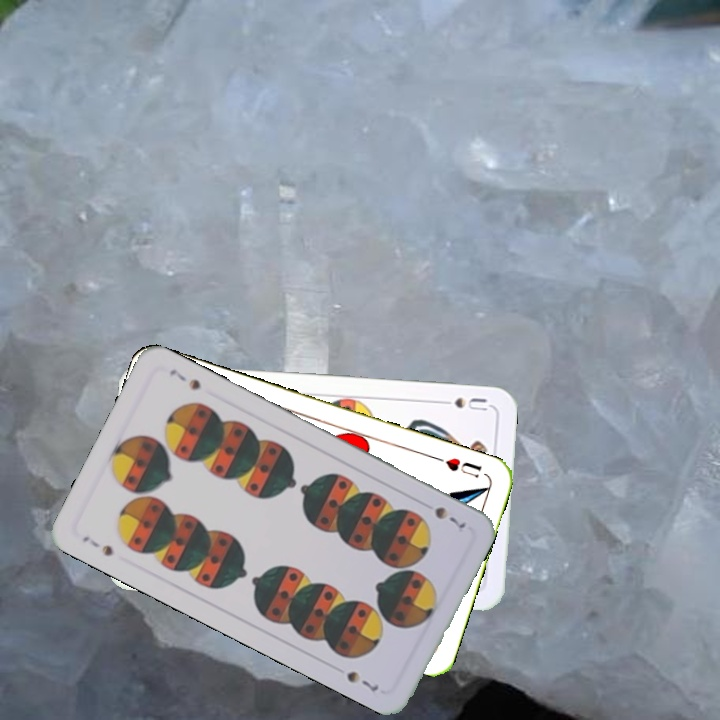HU: (431, 452, 484, 481)
S7: (430, 502, 468, 531), (78, 532, 116, 559)
SU: (433, 393, 490, 414)
